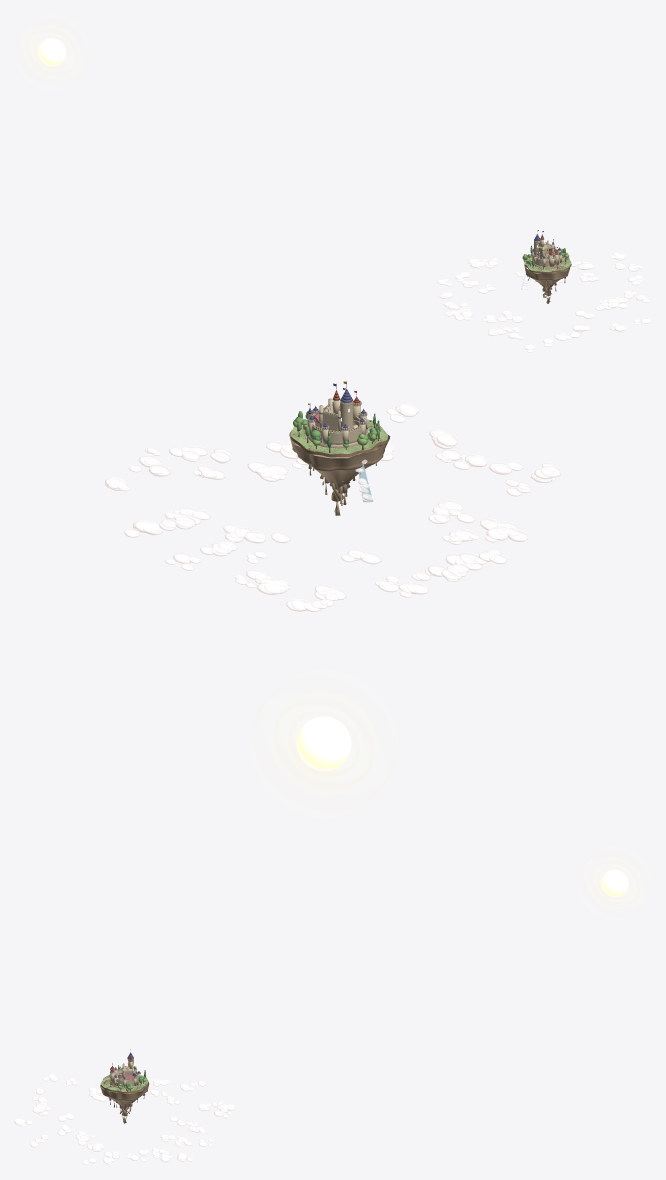
3 renders of one model, top to bottom at view 1: azimuth 30°, elevation 25°; view 2: azimuth 150°, elevation 25°; view 3: azimuth 270°, elevation 25°, orthographic. The views are drawn at different scales.
Parts seen in each view (by area): view 1: Cloud_Sea, Env_MoonHalo, Env_Moon, Island_Rock; view 2: Cloud_Sea, Env_MoonHalo, Env_Moon, Island_Rock, Island_Meadow, Castle_CurtainWall, Flora_Trees, Castle_Keep; view 3: Cloud_Sea, Env_MoonHalo, Island_Rock, Env_Moon.
Part boxes in pixels (x1,y1,x2,y2): Cloud_Sea: (437, 252, 651, 352); Env_MoonHalo: (25, 26, 78, 78); Env_Moon: (38, 38, 65, 66); Island_Rock: (523, 258, 571, 303); Cloud_Sea: (105, 403, 561, 612); Env_MoonHalo: (272, 692, 375, 795); Env_Moon: (296, 716, 351, 770); Island_Rock: (289, 420, 390, 515); Island_Meadow: (291, 419, 387, 457); Castle_CurtainWall: (308, 402, 367, 444); Flora_Trees: (293, 410, 380, 452); Castle_Keep: (319, 383, 340, 432); Cloud_Sea: (14, 1067, 235, 1165); Env_MoonHalo: (589, 857, 640, 908); Island_Rock: (100, 1078, 149, 1123); Env_Moon: (601, 869, 628, 896).
Bounding box in the file's own units: 231 × 97.88 × 349.
